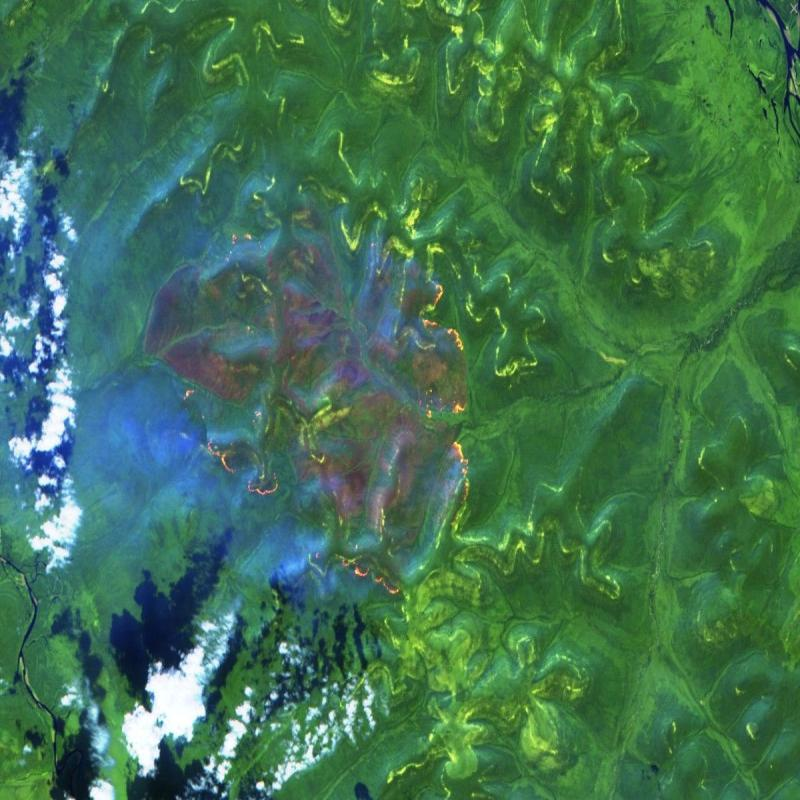fire: (428, 342, 496, 545), (315, 527, 407, 622), (196, 428, 285, 521), (185, 194, 286, 272)
